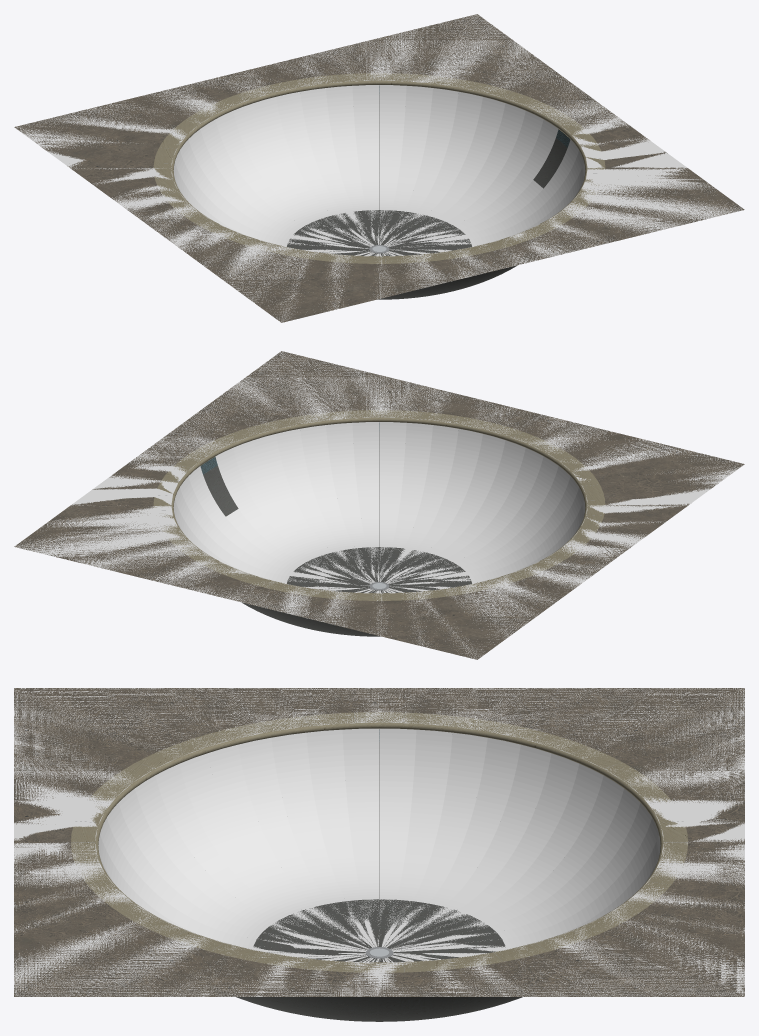
The model's file is bowl.glb.
3 renders of one model, top to bottom at view 1: azimuth 30°, elevation 25°; view 2: azimuth 150°, elevation 25°; view 3: azimuth 270°, elevation 25°, orthographic. The views are drawn at different scales.
Parts seen in each view (by area): view 1: COL_bowl, bowl_brushed concrete, bowl_cast concrete, bowl_pool concrete; view 2: COL_bowl, bowl_brushed concrete, bowl_cast concrete, bowl_pool concrete; view 3: COL_bowl, bowl_brushed concrete, bowl_cast concrete, bowl_pool concrete.
Boxes of the visible parts, bbox=[...] form: COL_bowl: bbox=[16, 14, 741, 322]; bowl_brushed concrete: bbox=[14, 14, 744, 322]; bowl_cast concrete: bbox=[153, 73, 605, 263]; bowl_pool concrete: bbox=[287, 95, 567, 299]; COL_bowl: bbox=[15, 351, 742, 659]; bowl_brushed concrete: bbox=[14, 351, 744, 659]; bowl_cast concrete: bbox=[153, 410, 605, 600]; bowl_pool concrete: bbox=[203, 432, 471, 636]; COL_bowl: bbox=[14, 688, 744, 996]; bowl_brushed concrete: bbox=[14, 688, 744, 996]; bowl_cast concrete: bbox=[71, 712, 687, 972]; bowl_pool concrete: bbox=[236, 742, 522, 1021].
Size of the model in its own units: 9 by 1.5 by 9.
Materials: 7 (4 with a texture image).
